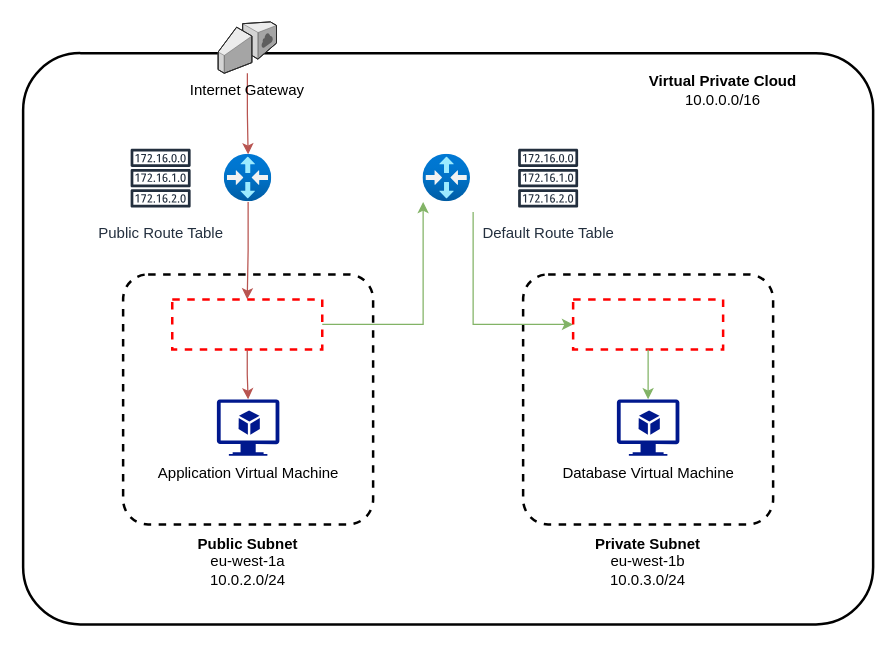
The diagram is 895 pixels wide and 648 high, and some of its shapes have lost their labels. The centre of each missing label's shape, as x and y in pixels:
"Application Security Group" goes at (x=246, y=324).
"Database Security Group" goes at (x=647, y=324).
